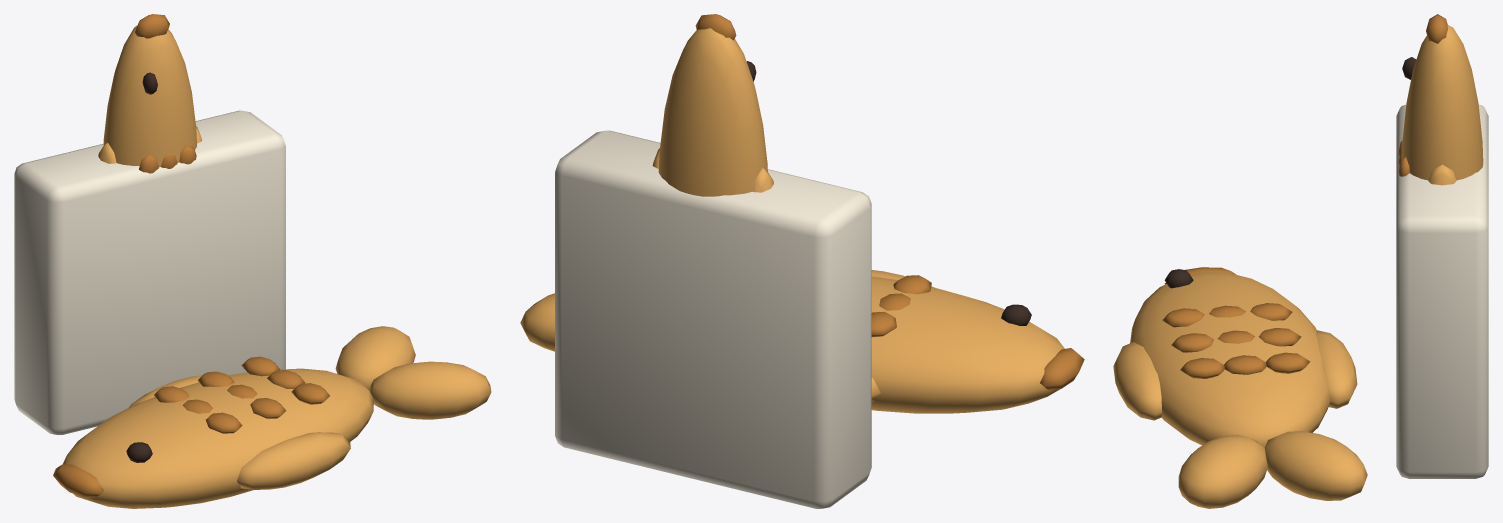
File: night-bungeoppang.glb
The picture shows the model from 3 angles, left to right: view 1: azimuth 30°, elevation 25°; view 2: azimuth 150°, elevation 25°; view 3: azimuth 270°, elevation 25°; orthographic projection. The views are drawn at different scales.
Parts seen in each view (by area): view 1: bag, bread, bread2; view 2: bag, bread, bread2; view 3: bread, bag, bread2.
Boxes of the visible parts, box(x1,y1,x2,y2) form: bag: box(14, 110, 285, 435); bread: box(53, 326, 491, 508); bread2: box(98, 14, 202, 173); bag: box(555, 130, 871, 508); bread: box(520, 270, 1084, 413); bread2: box(652, 14, 773, 196); bread: box(1113, 267, 1367, 508); bag: box(1396, 105, 1488, 478); bread2: box(1398, 14, 1483, 185).
Size of the model in its own units: 0.3941 by 0.351 by 0.2845.
